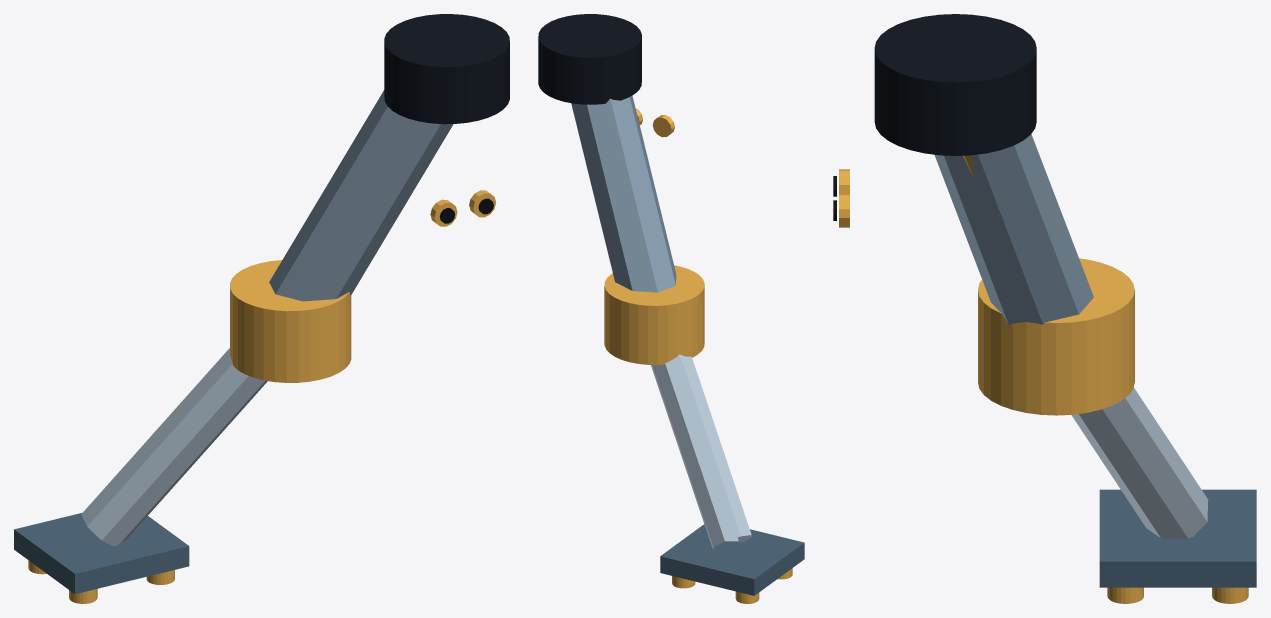
File: 20_L92_ArticulatedLandingLegC.fbx
The picture shows the model from 3 angles, left to right: view 1: azimuth 30°, elevation 25°; view 2: azimuth 150°, elevation 25°; view 3: azimuth 270°, elevation 25°; orthographic projection. The views are drawn at different scales.
Visible parts, largest first — view 1: L92_ArticulatedLandingLegC_Part_0000, L92_ArticulatedLandingLegC_Part_0002, L92_ArticulatedLandingLegC_Part_0004, L92_ArticulatedLandingLegC_Part_0003, L92_ArticulatedLandingLegC_Part_0005, L92_ArticulatedLandingLegC_Part_0006; view 2: L92_ArticulatedLandingLegC_Part_0000, L92_ArticulatedLandingLegC_Part_0002, L92_ArticulatedLandingLegC_Part_0004, L92_ArticulatedLandingLegC_Part_0003, L92_ArticulatedLandingLegC_Part_0005, L92_ArticulatedLandingLegC_Part_0006, L92_ArticulatedLandingLegC_Part_0007; view 3: L92_ArticulatedLandingLegC_Part_0002, L92_ArticulatedLandingLegC_Part_0000, L92_ArticulatedLandingLegC_Part_0003, L92_ArticulatedLandingLegC_Part_0005, L92_ArticulatedLandingLegC_Part_0004, L92_ArticulatedLandingLegC_Part_0006.
Part boxes in pixels (box(x1,y1,x2,y2)): L92_ArticulatedLandingLegC_Part_0000: box(269, 90, 453, 301); L92_ArticulatedLandingLegC_Part_0002: box(384, 14, 509, 124); L92_ArticulatedLandingLegC_Part_0004: box(81, 348, 267, 546); L92_ArticulatedLandingLegC_Part_0003: box(230, 260, 351, 382); L92_ArticulatedLandingLegC_Part_0005: box(14, 512, 189, 593); L92_ArticulatedLandingLegC_Part_0006: box(28, 560, 174, 603); L92_ArticulatedLandingLegC_Part_0000: box(571, 95, 676, 292); L92_ArticulatedLandingLegC_Part_0002: box(538, 14, 641, 104); L92_ArticulatedLandingLegC_Part_0004: box(651, 354, 751, 549); L92_ArticulatedLandingLegC_Part_0003: box(604, 265, 704, 364); L92_ArticulatedLandingLegC_Part_0005: box(660, 524, 804, 595); L92_ArticulatedLandingLegC_Part_0006: box(672, 568, 792, 603); L92_ArticulatedLandingLegC_Part_0007: box(652, 115, 674, 137); L92_ArticulatedLandingLegC_Part_0002: box(874, 14, 1036, 155); L92_ArticulatedLandingLegC_Part_0000: box(934, 134, 1093, 324); L92_ArticulatedLandingLegC_Part_0003: box(978, 258, 1134, 415); L92_ArticulatedLandingLegC_Part_0005: box(1099, 489, 1256, 587); L92_ArticulatedLandingLegC_Part_0004: box(1071, 387, 1208, 538); L92_ArticulatedLandingLegC_Part_0006: box(1107, 587, 1248, 603).
Bounding box in the file's own units: 211 × 290 × 162.
